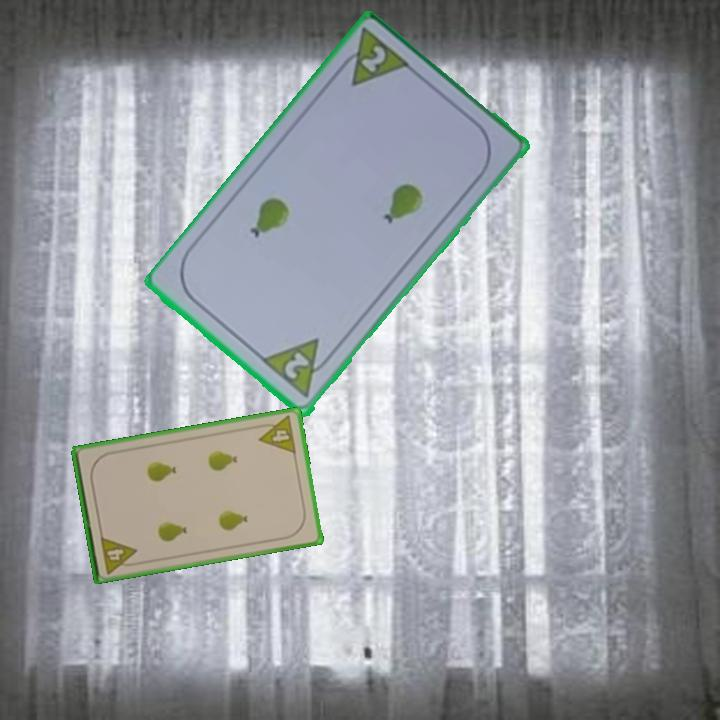2p: (331, 26, 414, 90), (259, 335, 338, 402)
4p: (253, 412, 299, 457), (97, 532, 141, 577)
